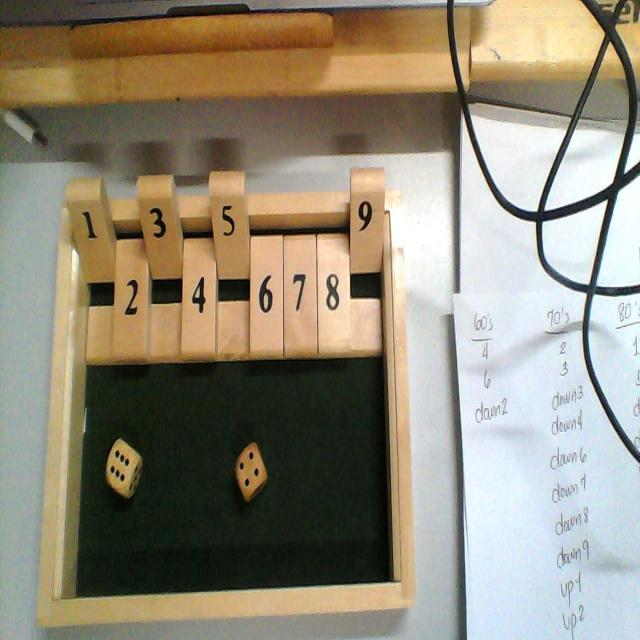4: (232, 435, 272, 504)
6: (103, 431, 144, 502)
C2: (115, 202, 149, 364)
C4: (184, 196, 216, 366)
C6: (250, 195, 284, 361)
C7: (283, 194, 316, 362)
C8: (318, 192, 351, 362)
O1: (68, 179, 106, 369)
O3: (138, 175, 182, 362)
O5: (210, 172, 247, 364)
O9: (352, 167, 383, 355)
